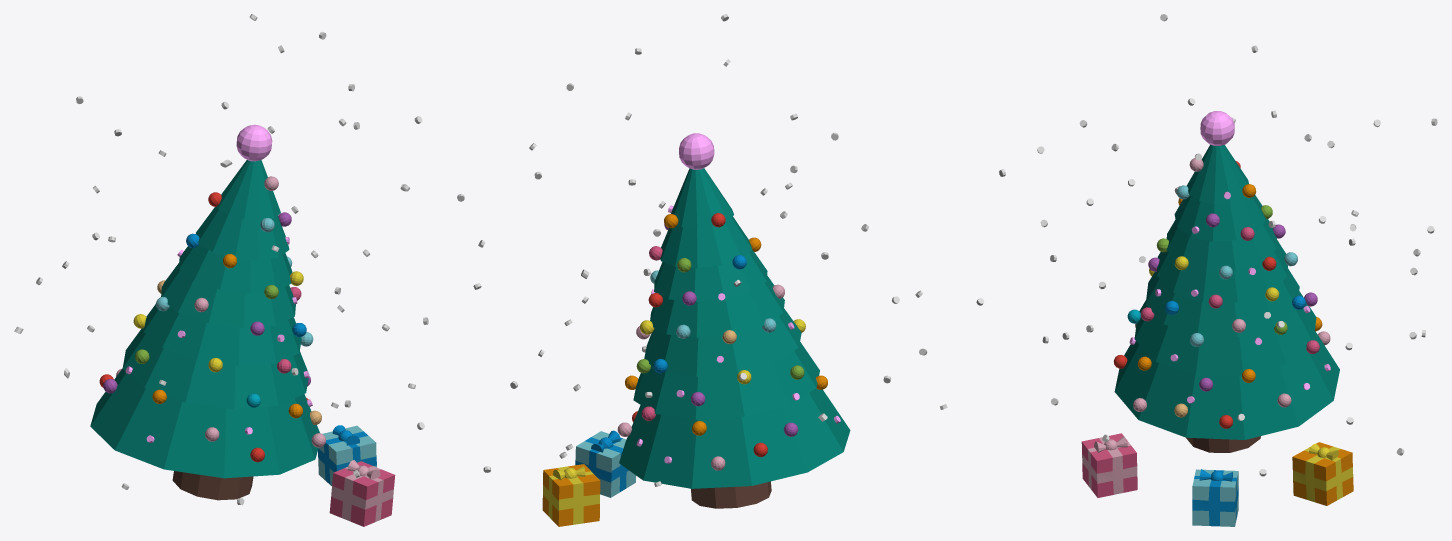
The picture shows the model from 3 angles, left to right: view 1: azimuth 30°, elevation 25°; view 2: azimuth 150°, elevation 25°; view 3: azimuth 270°, elevation 25°; orthographic projection. The views are drawn at different scales.
Visible parts, largest first — view 1: node_MeshObject-1264603136-PolyPaper21, node_MeshObject750795776-PolyPaper8, node_MeshObject-692524032-PolyGem25; view 2: node_MeshObject-1264603136-PolyPaper21, node_MeshObject750795776-PolyPaper8, node_MeshObject-692524032-PolyGem25; view 3: node_MeshObject-1264603136-PolyPaper21, node_MeshObject750795776-PolyPaper8, node_MeshObject-692524032-PolyGem25.
Part boxes in pixels (box(x1,y1,x2,y2)): node_MeshObject-1264603136-PolyPaper21: box(14, 14, 428, 526); node_MeshObject750795776-PolyPaper8: box(264, 176, 393, 521); node_MeshObject-692524032-PolyGem25: box(125, 124, 312, 442); node_MeshObject-1264603136-PolyPaper21: box(457, 14, 947, 508); node_MeshObject750795776-PolyPaper8: box(542, 270, 705, 526); node_MeshObject-692524032-PolyGem25: box(636, 133, 840, 463); node_MeshObject-1264603136-PolyPaper21: box(976, 14, 1437, 497); node_MeshObject750795776-PolyPaper8: box(1082, 158, 1353, 526); node_MeshObject-692524032-PolyGem25: box(1129, 111, 1330, 403).
Size of the model in its own units: 0.6215 by 0.7121 by 0.6464.
